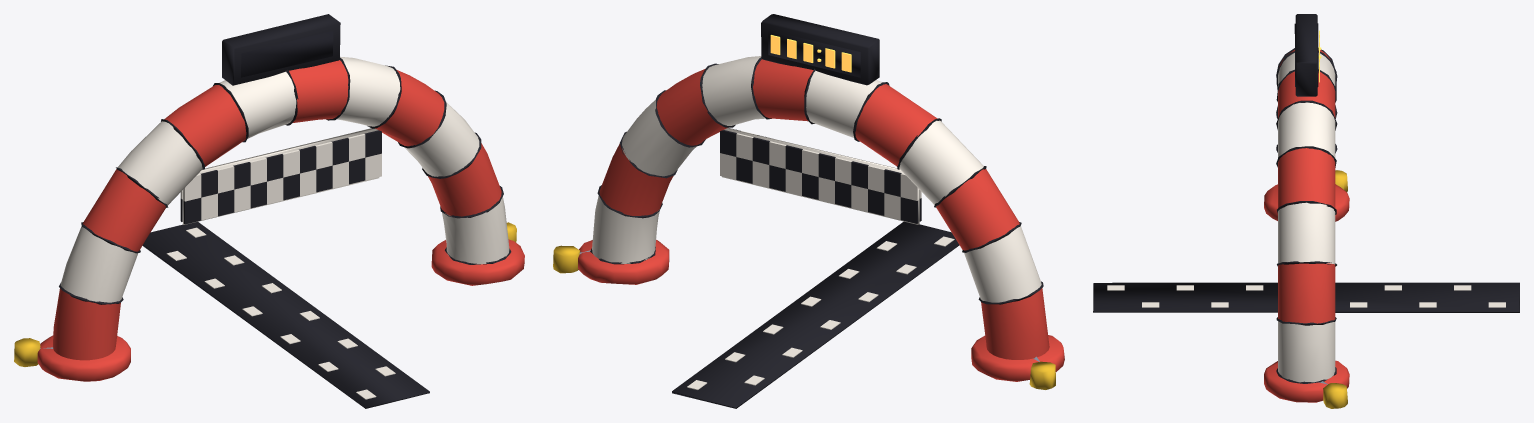
File: finish_arch.glb
The picture shows the model from 3 angles, left to right: view 1: azimuth 30°, elevation 25°; view 2: azimuth 150°, elevation 25°; view 3: azimuth 270°, elevation 25°; orthographic projection. The views are drawn at different scales.
Parts seen in each view (by area): view 1: finish_arch; view 2: finish_arch; view 3: finish_arch.
Part boxes in pixels (box(x1,y1,x2,y2)): finish_arch: box(14, 14, 524, 408); finish_arch: box(553, 14, 1064, 408); finish_arch: box(1093, 14, 1519, 408).
Bounding box in the file's own units: 9.11 × 4.99 × 7.38.
1 material, 1 textured.
